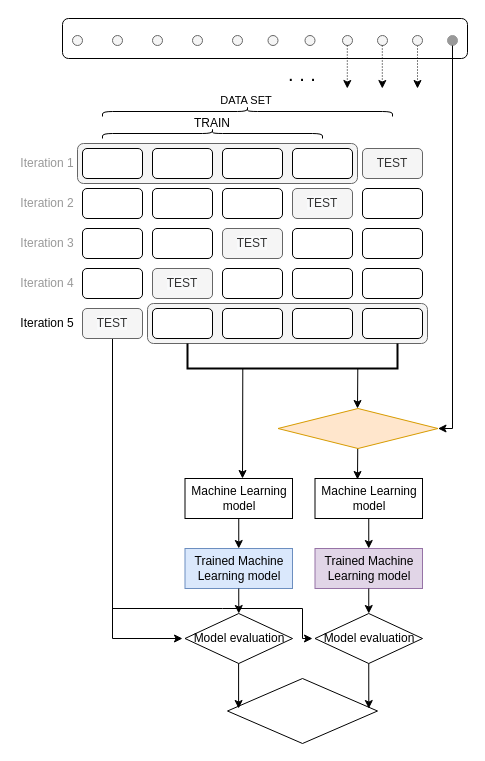
Some shapes in this 485 by 761 pixel diagram are drawn without their labels. Each missing label, with the centre of its shape:
"Compare metrics" belongs at [302,711].
"Fingerprint embedding" belongs at [357,428].
"Fingerprint parameter space" belongs at [265,38].
